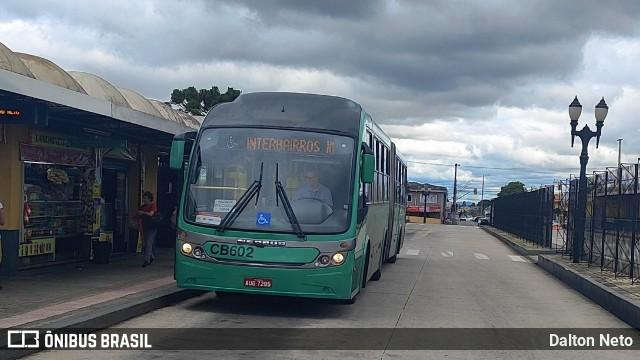INTERBAIRROS III: (242, 132, 338, 159)
